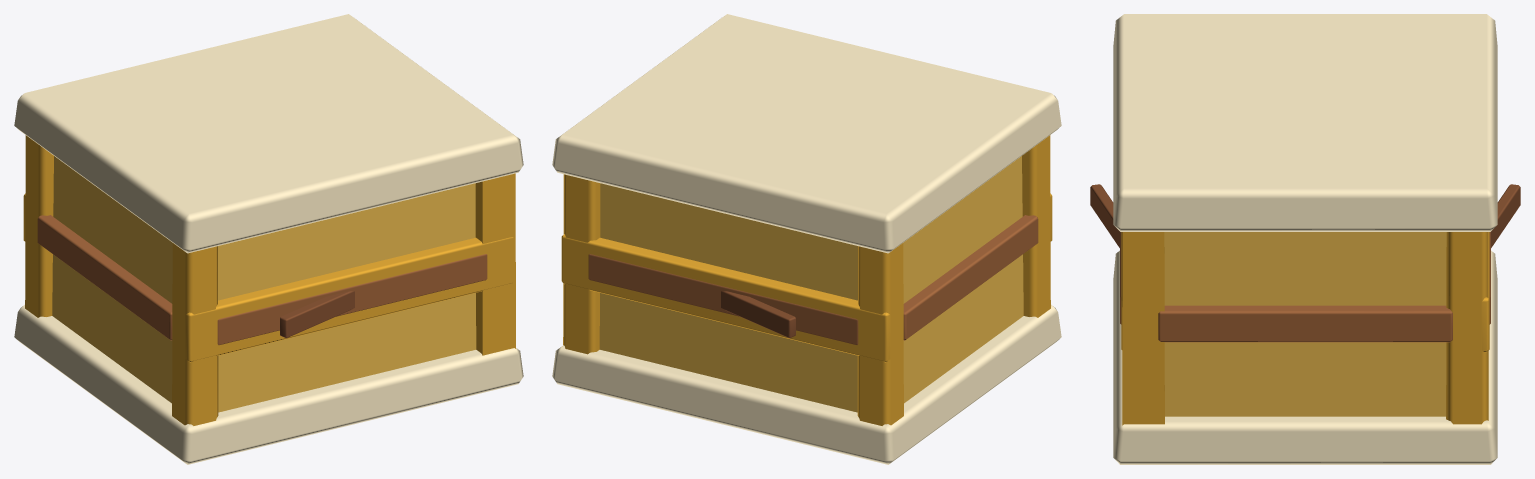
Rendered from short_box.glb.
3 views of the same model, side by side, from view 1: azimuth 30°, elevation 25°; view 2: azimuth 150°, elevation 25°; view 3: azimuth 270°, elevation 25° (orthographic). The views are drawn at different scales.
Visible parts, largest first — view 1: short_box; view 2: short_box; view 3: short_box.
Boxes of the visible parts, x1,y1,x2,y2 form: short_box: (14, 14, 523, 464); short_box: (552, 14, 1061, 464); short_box: (1090, 14, 1520, 464).
Bounding box in the file's own units: 1.37 × 0.955 × 1.36.
